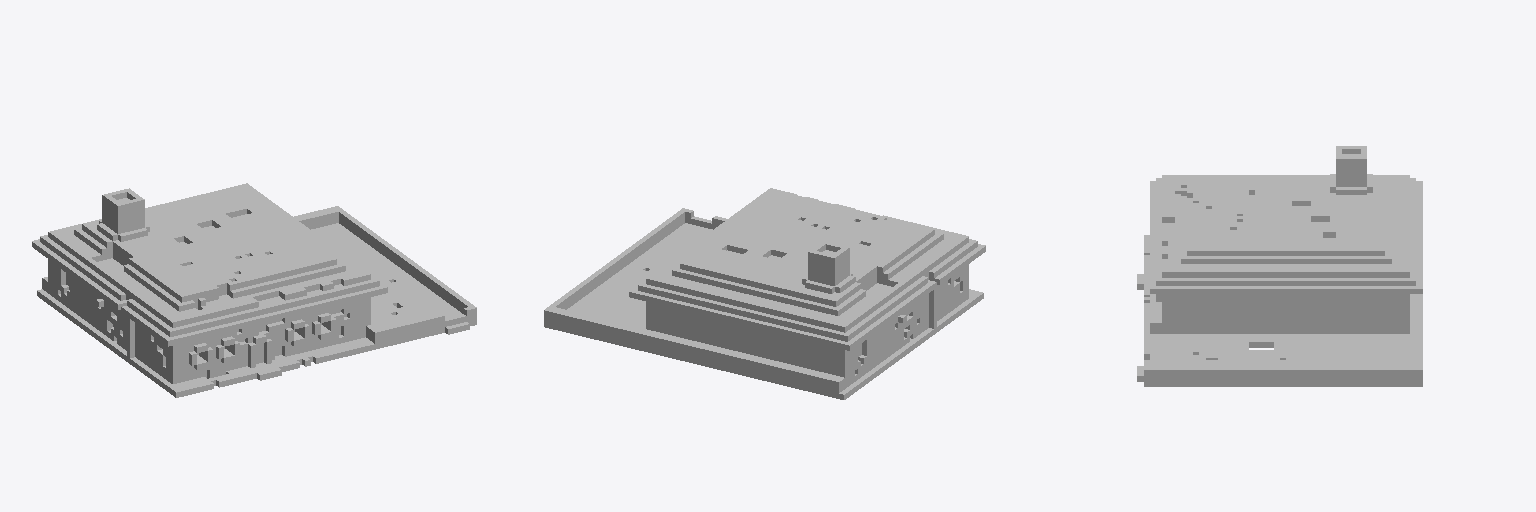
Rendered from house t2.obj.
The picture shows the model from 3 angles: view 1: azimuth 30°, elevation 25°; view 2: azimuth 150°, elevation 25°; view 3: azimuth 270°, elevation 25°; orthographic projection.
Parts seen in each view (by area): view 1: object 1; view 2: object 1; view 3: object 1.
Part boxes in pixels (bbox=[...]): object 1: bbox=[32, 183, 476, 397]; object 1: bbox=[544, 188, 985, 399]; object 1: bbox=[1137, 146, 1422, 386].
Bounding box in the file's own units: 5.7 × 2 × 4.6.